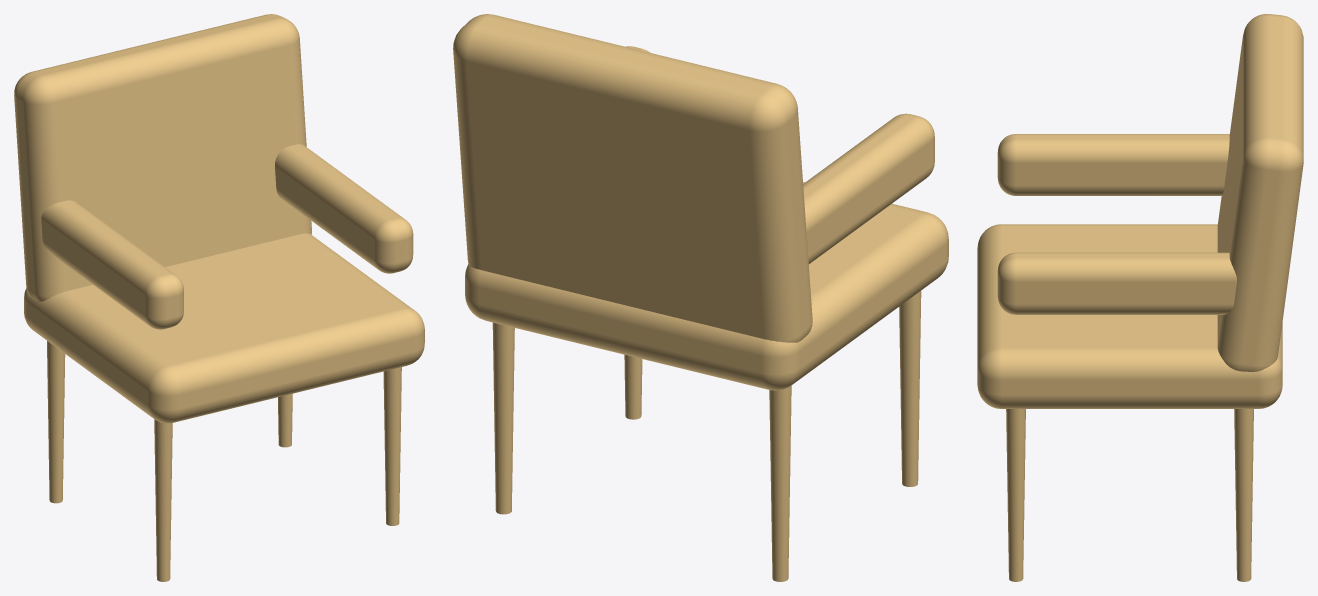
The model's file is interior-chair.glb.
3 views of the same model, side by side, from view 1: azimuth 30°, elevation 25°; view 2: azimuth 150°, elevation 25°; view 3: azimuth 270°, elevation 25° (orthographic). The views are drawn at different scales.
Visible parts, largest first — view 1: Forma Monogram; view 2: Forma Monogram; view 3: Forma Monogram.
Boxes of the visible parts, left/top/right/bottom form: Forma Monogram: left=14, top=14, right=424, bottom=581; Forma Monogram: left=453, top=14, right=948, bottom=581; Forma Monogram: left=977, top=14, right=1303, bottom=581.
Bounding box in the file's own units: 1.65 × 2.4 × 1.6.
